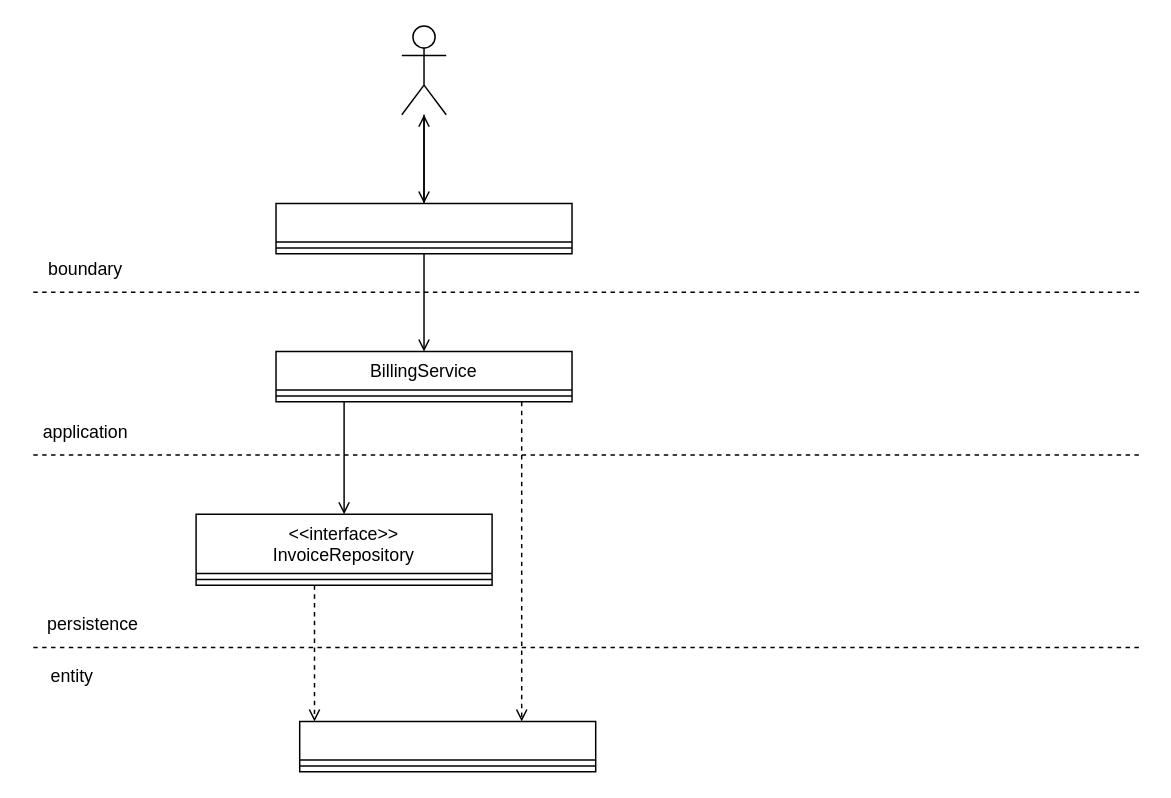
This 1171x798 diagram has some shape labels left out. Here are the shapes that lost their labels. From the top down, the centre of each, then its label:
At pixel 423 228: "BillingController".
At pixel 447 746: "BillingEntity".
